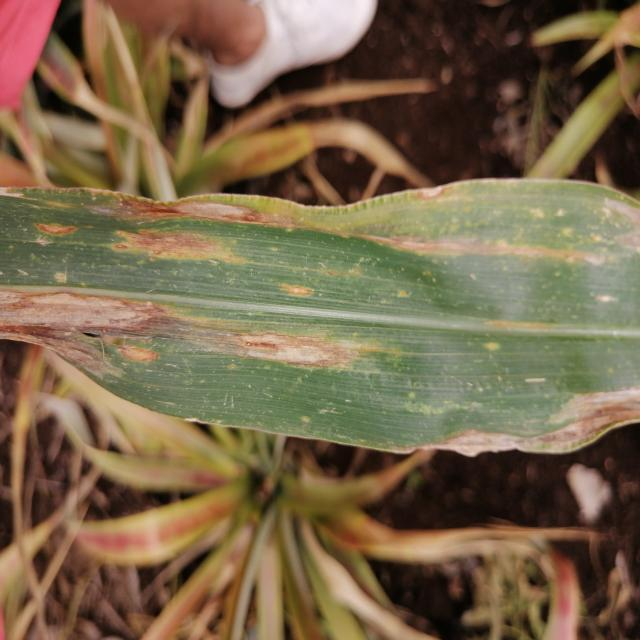Corn_Leaf_Blight: (0, 178, 640, 454)
